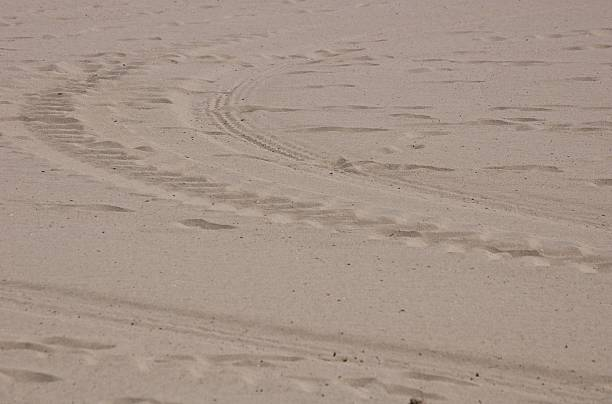vehicle_track: (16, 55, 611, 270), (0, 280, 609, 402), (204, 61, 600, 226)
